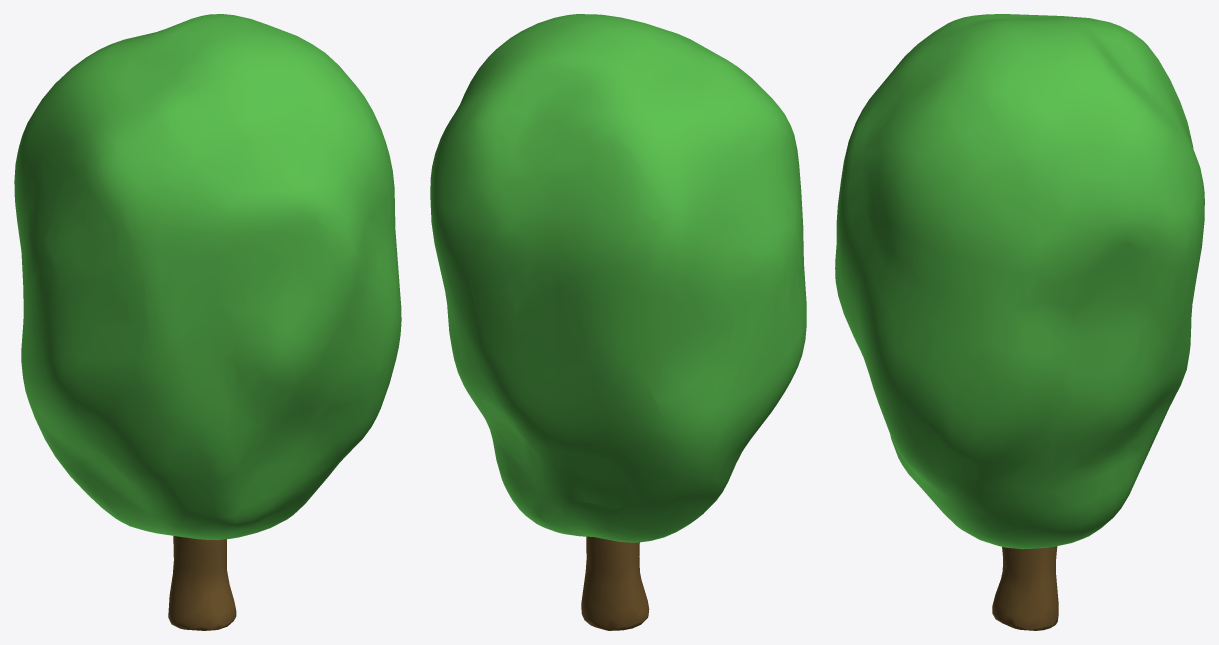
Rendered from tree-metallic.glb.
The picture shows the model from 3 angles, left to right: view 1: azimuth 30°, elevation 25°; view 2: azimuth 150°, elevation 25°; view 3: azimuth 270°, elevation 25°; orthographic projection. The views are drawn at different scales.
Parts seen in each view (by area): view 1: Cylinder.002; view 2: Cylinder.002; view 3: Cylinder.002.
Part boxes in pixels (x1,y1,x2,y2): Cylinder.002: [14, 14, 401, 630]; Cylinder.002: [430, 14, 806, 630]; Cylinder.002: [835, 14, 1204, 630].
Size of the model in its own units: 1.2 by 2.02 by 1.13.
